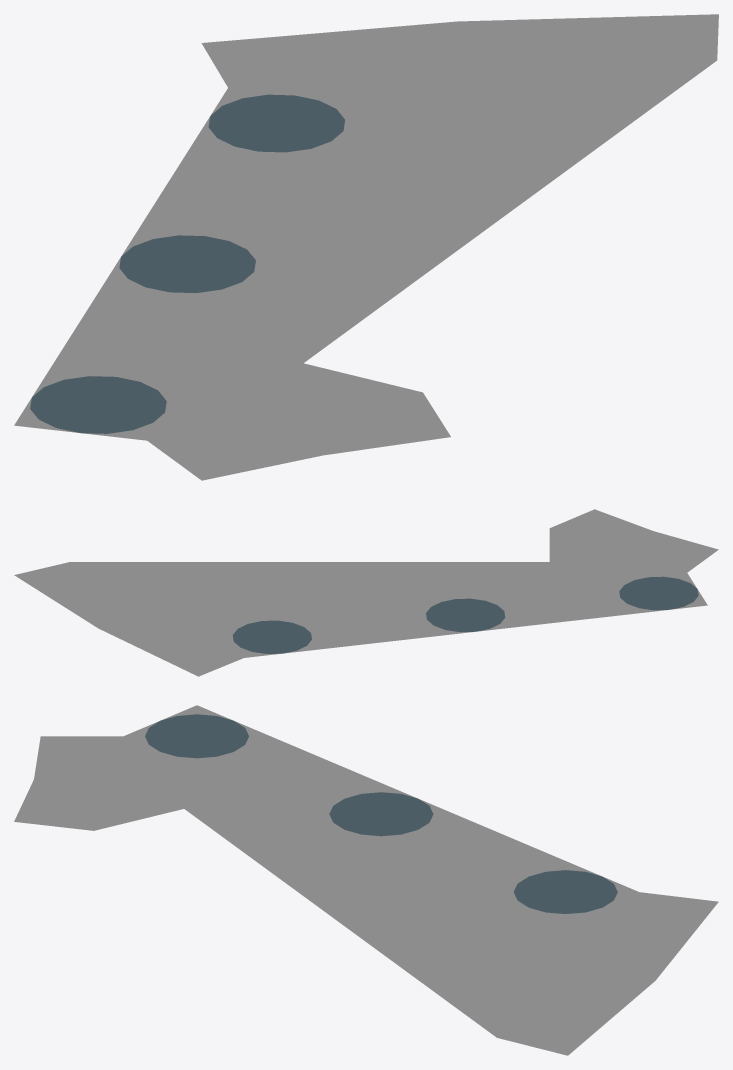
The picture shows the model from 3 angles, top to bottom: view 1: azimuth 30°, elevation 25°; view 2: azimuth 150°, elevation 25°; view 3: azimuth 270°, elevation 25°; orthographic projection. The views are drawn at different scales.
Visible parts, largest first — view 1: world; view 2: world; view 3: world.
Boxes of the visible parts, box(x1,y1,x2,y2) form: world: box(14, 14, 718, 480); world: box(14, 509, 718, 676); world: box(14, 705, 718, 1055).
Bounding box in the file's own units: 0.00637 × 0 × 0.00541.
